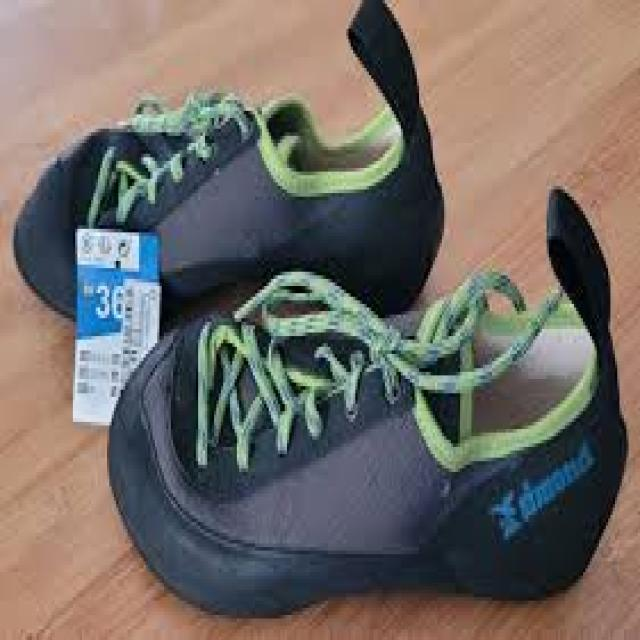climbing-shoes: (106, 252, 628, 619), (6, 79, 452, 312)
